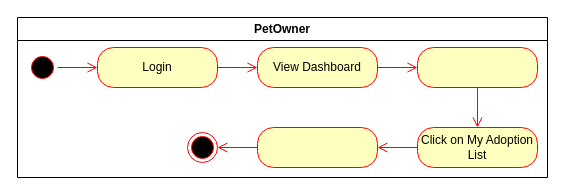
This 565x195 diagram has some shape labels left out. The centre of each missing label's shape, as x and y in pixels:
"Click on Adoption" goes at pixel 477 67.
"View My Adoption List" goes at pixel 317 147.
